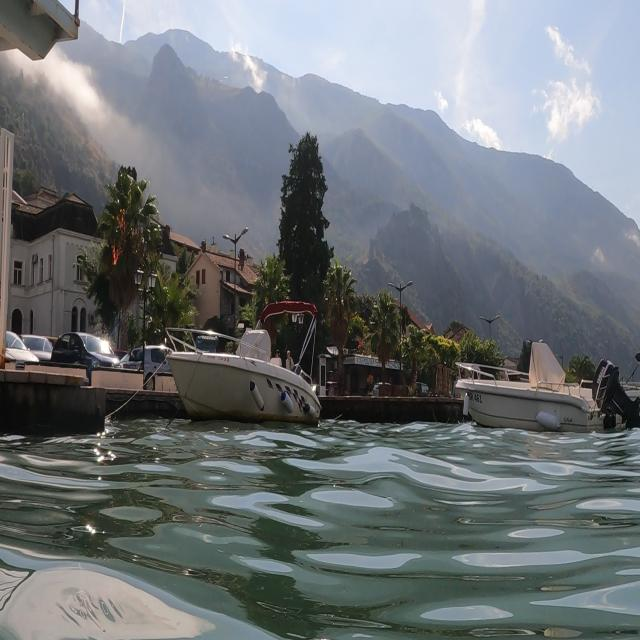boat: (162, 297, 324, 428), (452, 336, 640, 448)
